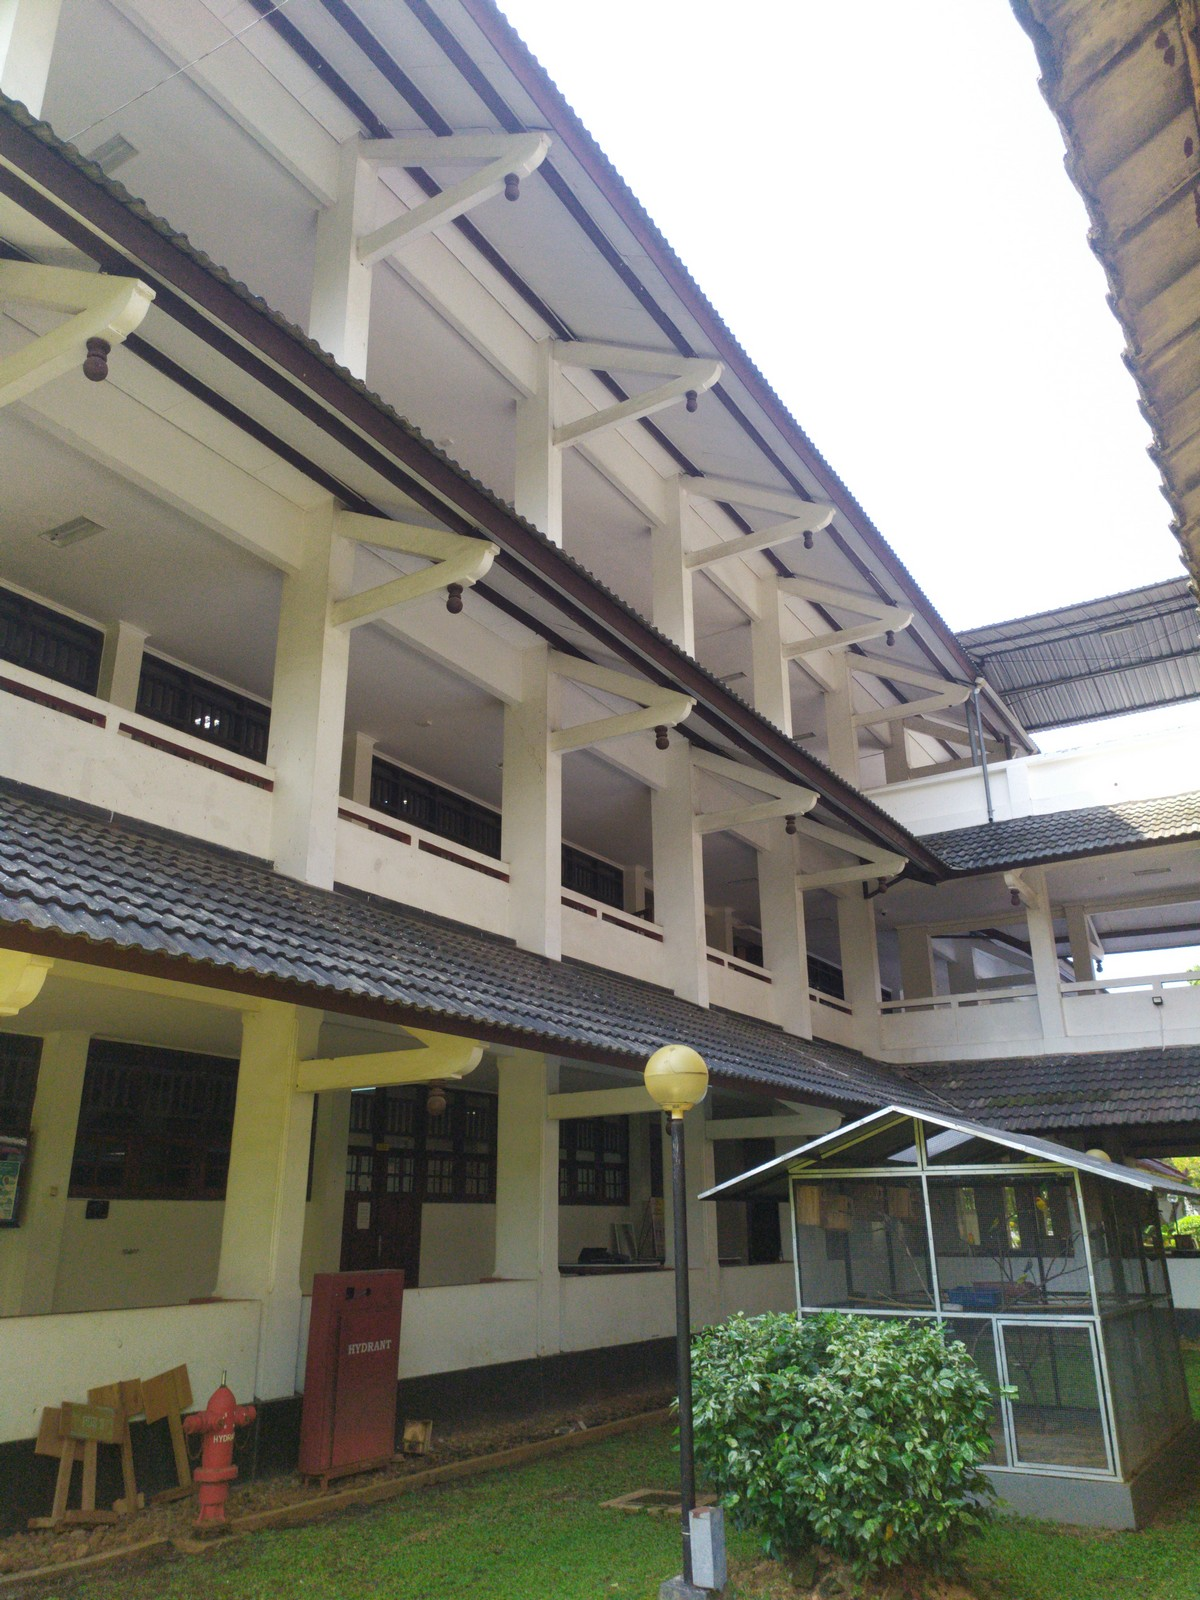concrete beam: (292, 1041, 459, 1106), (541, 386, 678, 447), (332, 571, 446, 636), (679, 515, 795, 573), (695, 797, 790, 844), (550, 716, 643, 762), (782, 624, 881, 666)
concrete column: (213, 1009, 319, 1410), (263, 506, 359, 883), (493, 643, 568, 960), (492, 1058, 566, 1363), (643, 729, 713, 1012), (759, 833, 819, 1044), (512, 341, 571, 547), (1021, 873, 1082, 1062), (836, 887, 896, 1063), (650, 471, 701, 664), (747, 569, 803, 742)
